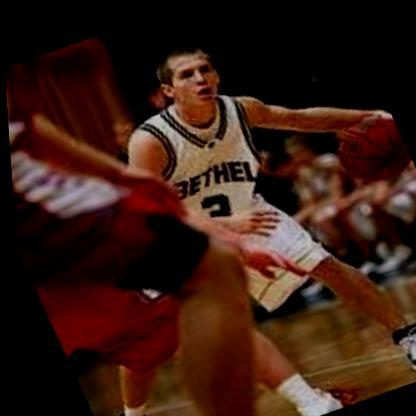basketball: (318, 96, 416, 192)
